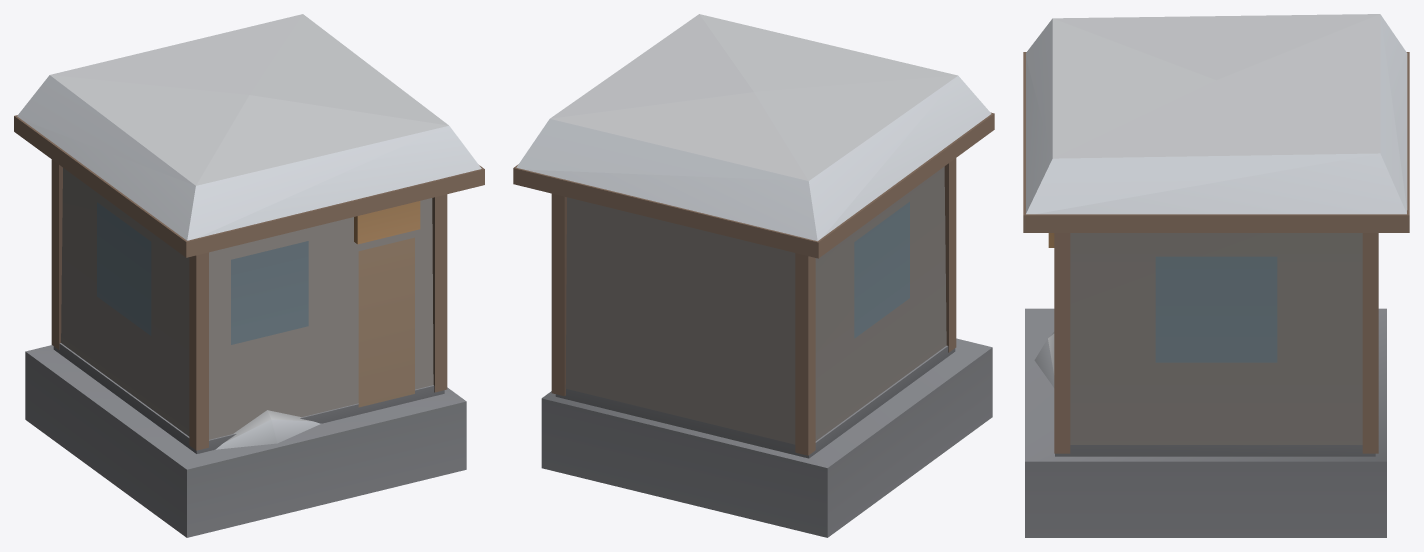
File: patrol.lod2.glb
3 views of the same model, side by side, from view 1: azimuth 30°, elevation 25°; view 2: azimuth 150°, elevation 25°; view 3: azimuth 270°, elevation 25° (orthographic). The views are drawn at different scales.
Size of the model in its own units: 4.76 by 5.25 by 4.76.
